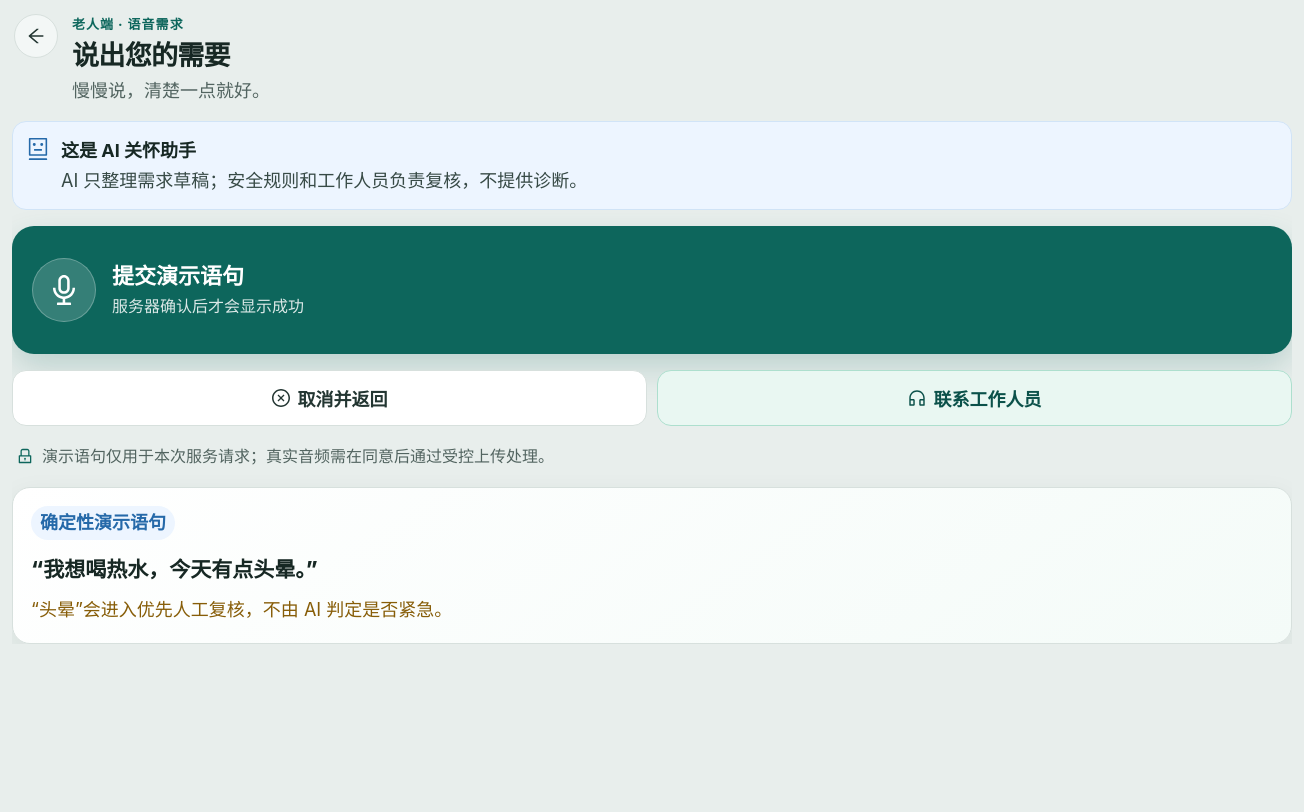
M03 mobile workflows › discloses AI identity and shows human review only after the demo endpoint confirms it
This screenshot has width=1304, height=812.
Expected: the text "这是 AI 关怀助手" is shown, [61,140,196,161]
Expected: the text "“我想喝热水，今天有点头晕。”" is shown, [31,557,318,582]
What coordinates should you click on to do the following:
click the button "提交演示语句 服务器确认后才会显示成功"
I would click on:
 (652, 290)
Its box is [12,226,1292,354].
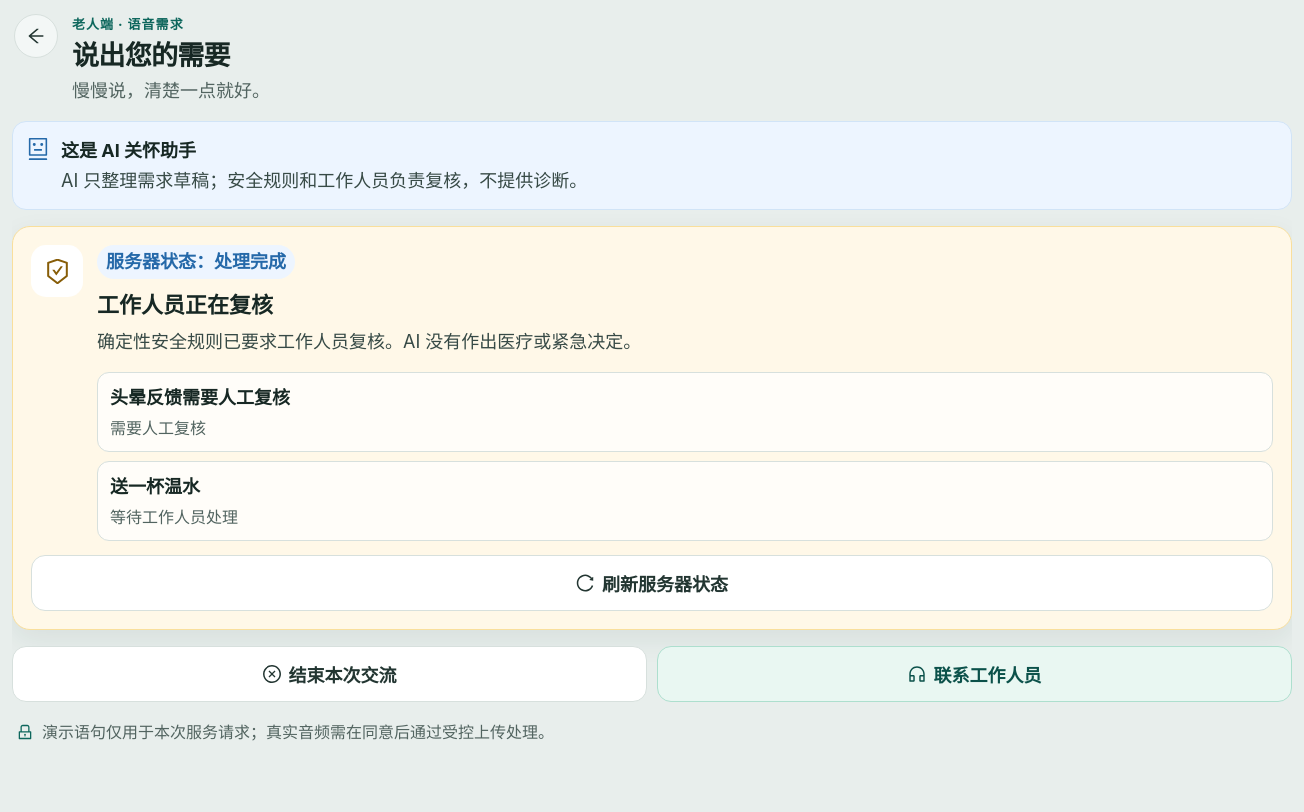
Expected: the button "结束本次交流" is enabled, [12,646,647,702]
Result: the heading "工作人员正在复核" is shown at [97,292,273,318]
Result: the text "确定性安全规则已要求工作人员复核。AI 没有作出医疗或紧急决定。" is shown at [97,332,641,352]
